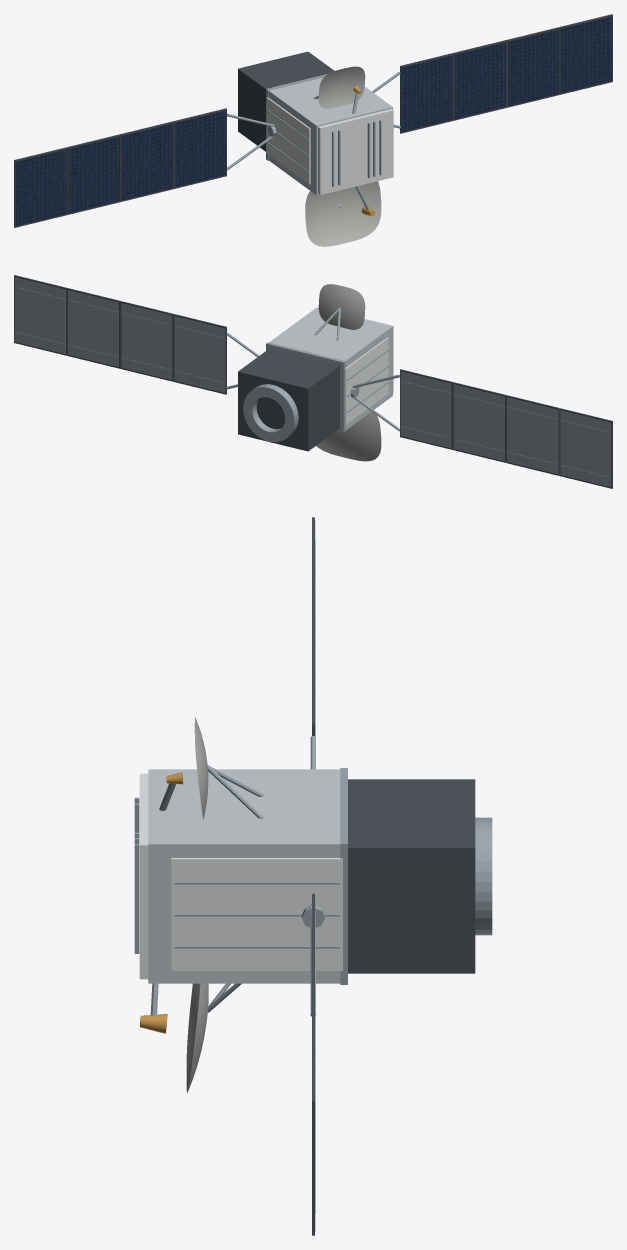
File: ref-star-2-4-37748.glb
3 views of the same model, one above another, from view 1: azimuth 30°, elevation 25°; view 2: azimuth 150°, elevation 25°; view 3: azimuth 270°, elevation 25° (orthographic). The views are drawn at different scales.
Parts seen in each view (by area): view 1: Solar cell panel (×8), Communications reflector (×2), Earth-facing deck, Solar panel frame (×8), Service module, Payload module, Radiator face; view 2: Rear array substrate (×8), Service module, Payload module, Solar panel frame (×8), Communications reflector (×2), Radiator face, Launch adapter ring, Module interface; view 3: Service module, Payload module, Radiator face, Launch adapter ring, Earth-facing deck, Communications reflector, Module interface.
Boxes of the visible parts, <box> form: Solar cell panel (×8): <box>15,16,612,226</box>; Communications reflector (×2): <box>305,66,381,246</box>; Earth-facing deck: <box>318,109,393,195</box>; Solar panel frame (×8): <box>14,14,612,227</box>; Service module: <box>238,51,334,151</box>; Payload module: <box>268,77,392,195</box>; Radiator face: <box>266,97,310,184</box>; Rear array substrate (×8): <box>14,277,611,487</box>; Service module: <box>238,348,339,451</box>; Payload module: <box>269,307,392,430</box>; Solar panel frame (×8): <box>14,275,612,488</box>; Communications reflector (×2): <box>316,284,381,461</box>; Radiator face: <box>345,337,388,424</box>; Launch adapter ring: <box>243,384,298,442</box>; Module interface: <box>266,342,345,432</box>; Service module: <box>348,779,475,973</box>; Payload module: <box>148,769,340,983</box>; Radiator face: <box>171,858,342,970</box>; Launch adapter ring: <box>475,817,492,935</box>; Earth-facing deck: <box>139,773,148,979</box>; Communications reflector: <box>186,983,208,1092</box>; Module interface: <box>340,768,347,984</box>.
Bounding box in the file's own units: 17.98 × 4.98 × 4.66.
8 materials, 1 textured.
